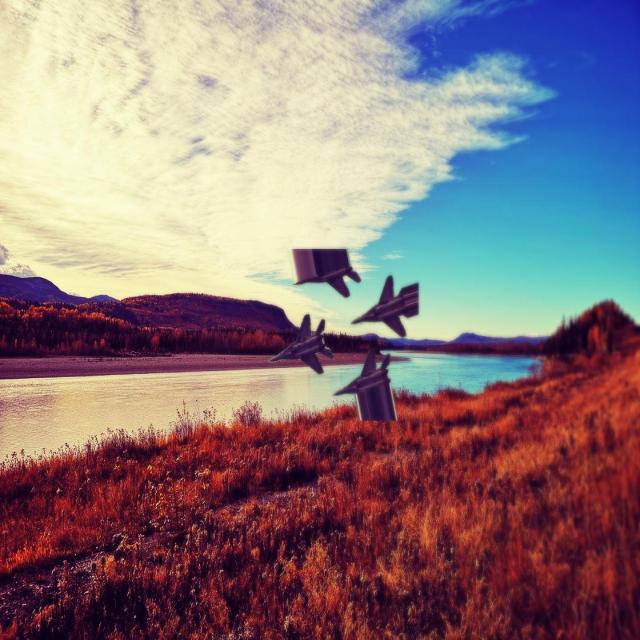airplane: (332, 346, 398, 421), (351, 274, 419, 338), (268, 313, 334, 374), (289, 246, 361, 298)
